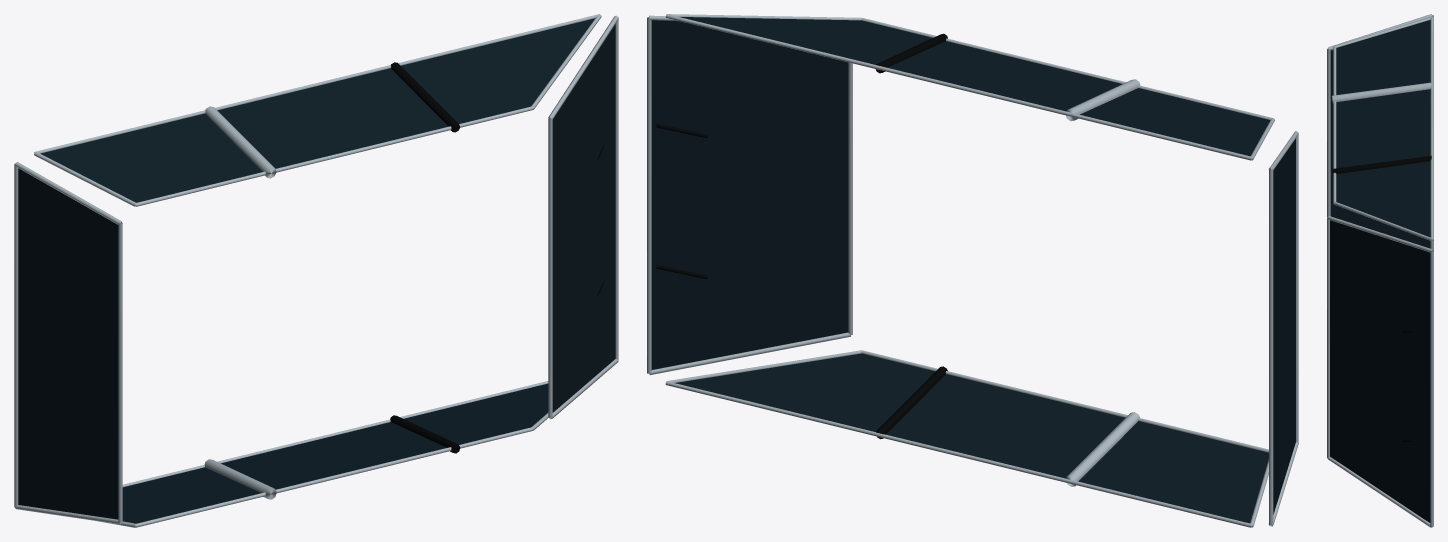
File: Car70Cabin2.obj
3 views of the same model, side by side, from view 1: azimuth 30°, elevation 25°; view 2: azimuth 150°, elevation 25°; view 3: azimuth 270°, elevation 25° (orthographic). The views are drawn at different scales.
Visible parts, largest first — view 1: Car70Cabin2; view 2: Car70Cabin2; view 3: Car70Cabin2.
Boxes of the visible parts, <box> form: Car70Cabin2: <box>14,14,618,527</box>; Car70Cabin2: <box>647,14,1298,527</box>; Car70Cabin2: <box>1327,14,1433,527</box>.
Size of the model in its own units: 288 by 166 by 54.82.
